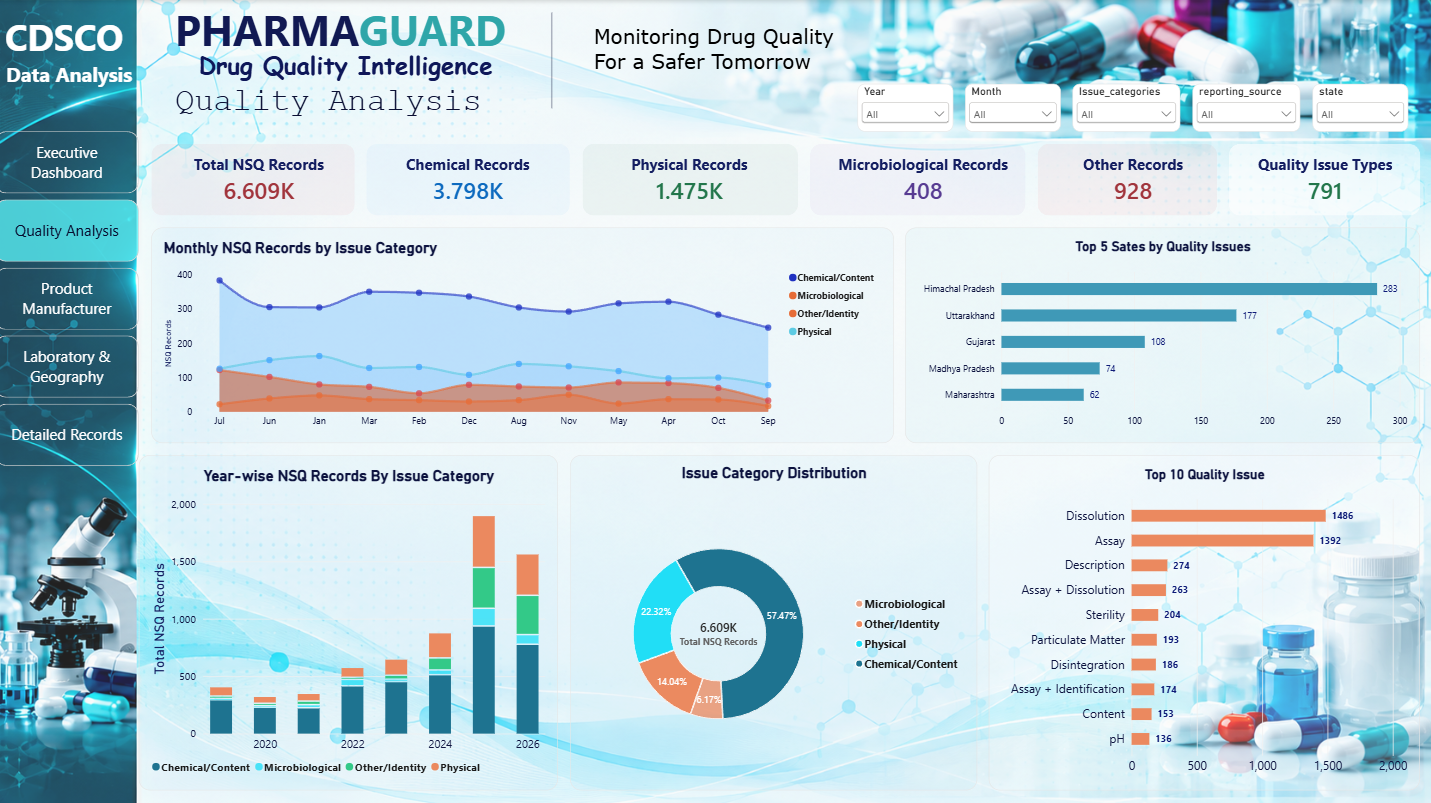

Layout of this report page (visuals, bound fields, positions):
{"tool":"powerbi","page":{"name":"Quality Analysis","canvas":[1920,1080],"ordinal":1},"visuals":[{"type":"shape","box":[1648,192,256,96],"z":0},{"type":"shape","box":[208,192,272,96],"z":1000},{"type":"cardVisual","fields":{"Data":["PharmaGuard.Total NSQ Records"]},"box":[240,192,224,96],"z":2000},{"type":"textbox","box":[240,0,496,80],"z":3000},{"type":"textbox","box":[272,64,496,80],"z":4000},{"type":"textbox","box":[240,112,496,48],"z":5000},{"type":"shape","box":[720,16,48,128],"z":6000},{"type":"textbox","box":[800,32,336,80],"z":7000},{"type":"slicer","fields":{"Values":["PharmaGuard.report_month_name"]},"box":[1296,112,128,64],"z":8000},{"type":"slicer","fields":{"Values":["PharmaGuard.report_year"]},"box":[1152,112,128,64],"z":9000},{"type":"slicer","fields":{"Values":["PharmaGuard.reporting_source"]},"box":[1600,112,144,64],"z":10000},{"type":"slicer","fields":{"Values":["PharmaGuard.quality_categories"]},"box":[1440,112,144,64],"z":11000},{"type":"slicer","fields":{"Values":["PharmaGuard.state"]},"box":[1760,112,128,64],"z":12000},{"type":"shape","box":[496,192,272,96],"z":13000},{"type":"shape","box":[784,192,288,96],"z":14000},{"type":"shape","box":[1088,192,288,96],"z":15000},{"type":"shape","box":[1392,192,240,96],"z":16000},{"type":"cardVisual","fields":{"Data":["PharmaGuard.Chemical Records"]},"box":[528,192,208,96],"z":17000},{"type":"cardVisual","fields":{"Data":["PharmaGuard.Physical Records"]},"box":[832,192,192,96],"z":18000},{"type":"cardVisual","fields":{"Data":["PharmaGuard.Microbiological Records"]},"box":[1104,192,272,96],"z":19000},{"type":"cardVisual","fields":{"Data":["PharmaGuard.Other Records"]},"box":[1424,192,192,96],"z":20000},{"type":"cardVisual","fields":{"Data":["PharmaGuard.Quality Issue Types"]},"box":[1664,192,224,96],"z":21000},{"type":"lineChart","title":"  Monthly NSQ Records by Issue Category","fields":{"Category":["PharmaGuard.report_month_name"],"Y":["PharmaGuard.Total NSQ Records"],"Series":["PharmaGuard.quality_categories"]},"box":[208,304,992,288],"z":22000},{"type":"barChart","title":" Top 10 Quality Issue ","fields":{"Category":["PharmaGuard.nsq_result_short_name"],"Y":["PharmaGuard.Total NSQ Records"]},"box":[1328,608,576,448],"z":23000},{"type":"barChart","title":"Top 5 Sates by Quality Issues","fields":{"Y":["PharmaGuard.Quality Issue Types"],"Category":["PharmaGuard.manufacturer_state"]},"box":[1216,304,688,288],"z":24000},{"type":"columnChart","title":"Year-wise NSQ Records By Issue Category","fields":{"Category":["PharmaGuard.report_year"],"Y":["PharmaGuard.Total NSQ Records"],"Series":["PharmaGuard.quality_categories"]},"box":[192,608,560,448],"z":25000},{"type":"textbox","box":[0,16,192,208],"z":26000},{"type":"donutChart","title":"Issue Category Distribution","fields":{"Category":["PharmaGuard.quality_categories"],"Y":["PharmaGuard.Total NSQ Records"]},"box":[768,608,544,448],"z":27000},{"type":"pageNavigator","box":[0,176,192,448],"z":27001}]}

Visuals, with their boxes in screenshot pixels (x1, y1, x2, y2), scaled from the page's 1920x1080 canvas onto the 1431x803 screenshot:
shape: crop(1228, 143, 1419, 214)
shape: crop(155, 143, 358, 214)
cardVisual - PharmaGuard.Total NSQ Records: crop(179, 143, 346, 214)
textbox: crop(179, 0, 549, 59)
textbox: crop(203, 48, 572, 107)
textbox: crop(179, 83, 549, 119)
shape: crop(537, 12, 572, 107)
textbox: crop(596, 24, 847, 83)
slicer - PharmaGuard.report_month_name: crop(966, 83, 1061, 131)
slicer - PharmaGuard.report_year: crop(859, 83, 954, 131)
slicer - PharmaGuard.reporting_source: crop(1192, 83, 1300, 131)
slicer - PharmaGuard.quality_categories: crop(1073, 83, 1181, 131)
slicer - PharmaGuard.state: crop(1312, 83, 1407, 131)
shape: crop(370, 143, 572, 214)
shape: crop(584, 143, 799, 214)
shape: crop(811, 143, 1026, 214)
shape: crop(1037, 143, 1216, 214)
cardVisual - PharmaGuard.Chemical Records: crop(394, 143, 549, 214)
cardVisual - PharmaGuard.Physical Records: crop(620, 143, 763, 214)
cardVisual - PharmaGuard.Microbiological Records: crop(823, 143, 1026, 214)
cardVisual - PharmaGuard.Other Records: crop(1061, 143, 1204, 214)
cardVisual - PharmaGuard.Quality Issue Types: crop(1240, 143, 1407, 214)
"  Monthly NSQ Records by Issue Category" lineChart: crop(155, 226, 894, 440)
" Top 10 Quality Issue " barChart: crop(990, 452, 1419, 785)
"Top 5 Sates by Quality Issues" barChart: crop(906, 226, 1419, 440)
"Year-wise NSQ Records By Issue Category" columnChart: crop(143, 452, 560, 785)
textbox: crop(0, 12, 143, 167)
"Issue Category Distribution" donutChart: crop(572, 452, 978, 785)
pageNavigator: crop(0, 131, 143, 464)
